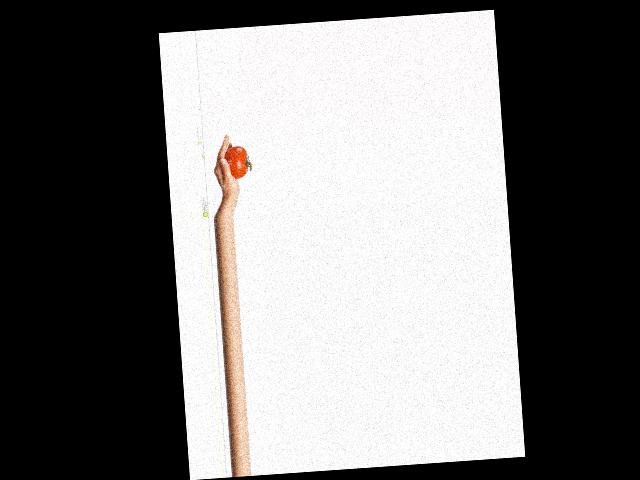tomato: (223, 145, 248, 179)
